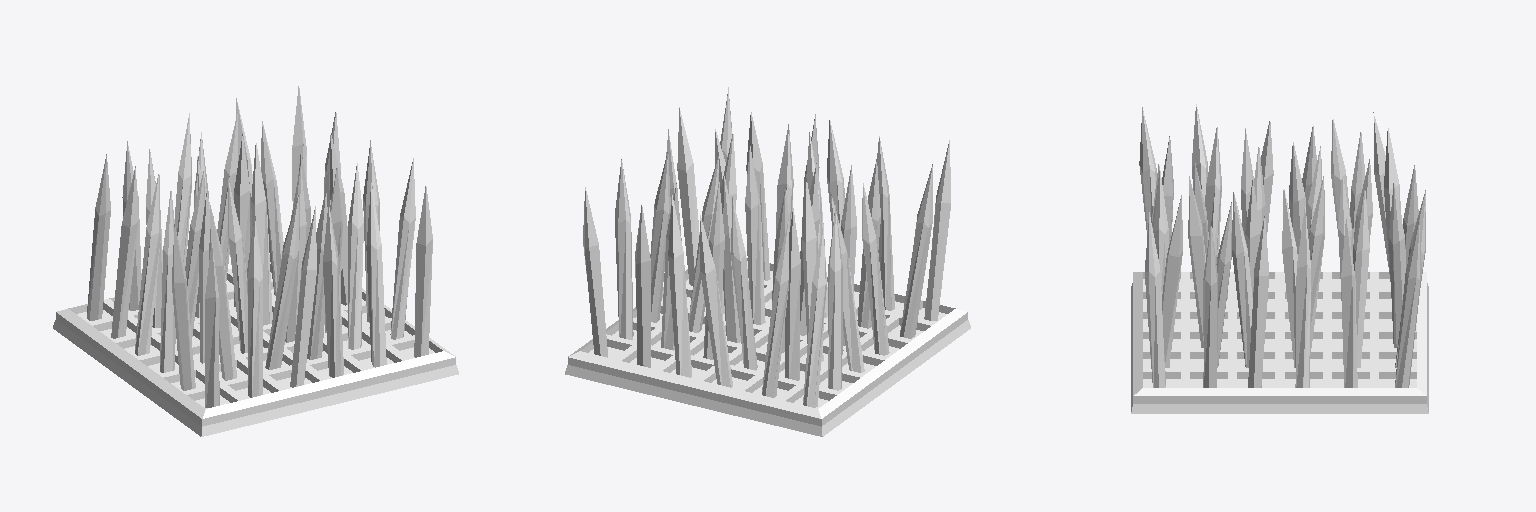
File: picosViejos.obj
3 renders of one model, left to right at view 1: azimuth 30°, elevation 25°; view 2: azimuth 150°, elevation 25°; view 3: azimuth 270°, elevation 25°, orthographic.
Visible parts, largest first — view 1: wooden_spikes1; view 2: wooden_spikes1; view 3: wooden_spikes1.
Boxes of the visible parts, x1=… form: wooden_spikes1: x1=53, y1=86, x2=458, y2=436; wooden_spikes1: x1=565, y1=87, x2=970, y2=436; wooden_spikes1: x1=1131, y1=104, x2=1428, y2=413.
Bounding box in the file's own units: 10.02 × 7.06 × 10.02.